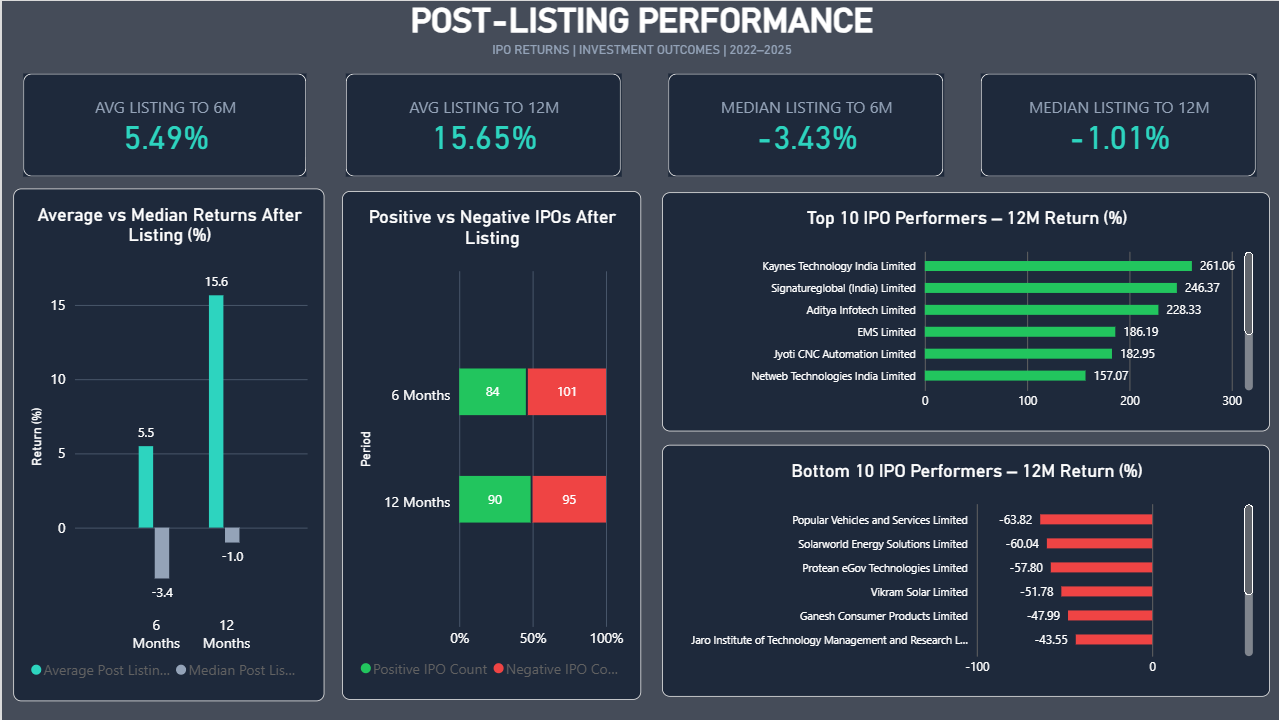

This screenshot's page, from the dashboard's own definition file:
{"tool":"powerbi","page":{"name":"Post-Listing Performance","canvas":[1920,1080],"ordinal":1},"visuals":[{"type":"cardVisual","title":"Average 6M return","fields":{"Data":["ipo_master_analysis.Avg Listing to 6M"]},"box":[0,0,480.1,402.9],"z":0},{"type":"cardVisual","title":"Average 12M return","fields":{"Data":["ipo_master_analysis.Avg Listing to 12M"]},"box":[480.1,0,480.1,402.9],"z":1000},{"type":"cardVisual","title":"Median 6M return","fields":{"Data":["ipo_master_analysis.Median Listing to 6M"]},"box":[960.2,0,480.1,402.9],"z":2000},{"type":"cardVisual","title":"Median 12M return","fields":{"Data":["ipo_master_analysis.Median Listing to 12M"]},"box":[1440.3,0,478.2,402.9],"z":3000},{"type":"clusteredColumnChart","title":"Average vs Median Returns After Listing","fields":{"Category":["Post Listing Period.Period"],"Y":["Post Listing Period.Average Post Listing Return","Post Listing Period.Median Post Listing Return"]},"box":[0,402.9,960.2,677.8],"z":4000},{"type":"hundredPercentStackedBarChart","title":"Positive vs Negative IPOs After Listing","fields":{"Category":["Post Listing Period.Period"],"Y":["Post Listing Period.Positive IPO Count","Post Listing Period.Negative IPO Count"]},"box":[960.2,402.9,958.3,677.8],"z":5000}]}

Visuals, with their boxes in screenshot pixels (x1, y1, x2, y2), scaled from the page's 1920x1080 canvas onto the 1279x720 screenshot:
"Average 6M return" cardVisual: (left=0, top=0, right=320, bottom=269)
"Average 12M return" cardVisual: (left=320, top=0, right=640, bottom=269)
"Median 6M return" cardVisual: (left=640, top=0, right=959, bottom=269)
"Median 12M return" cardVisual: (left=959, top=0, right=1278, bottom=269)
"Average vs Median Returns After Listing" clusteredColumnChart: (left=0, top=269, right=640, bottom=719)
"Positive vs Negative IPOs After Listing" hundredPercentStackedBarChart: (left=640, top=269, right=1278, bottom=719)
